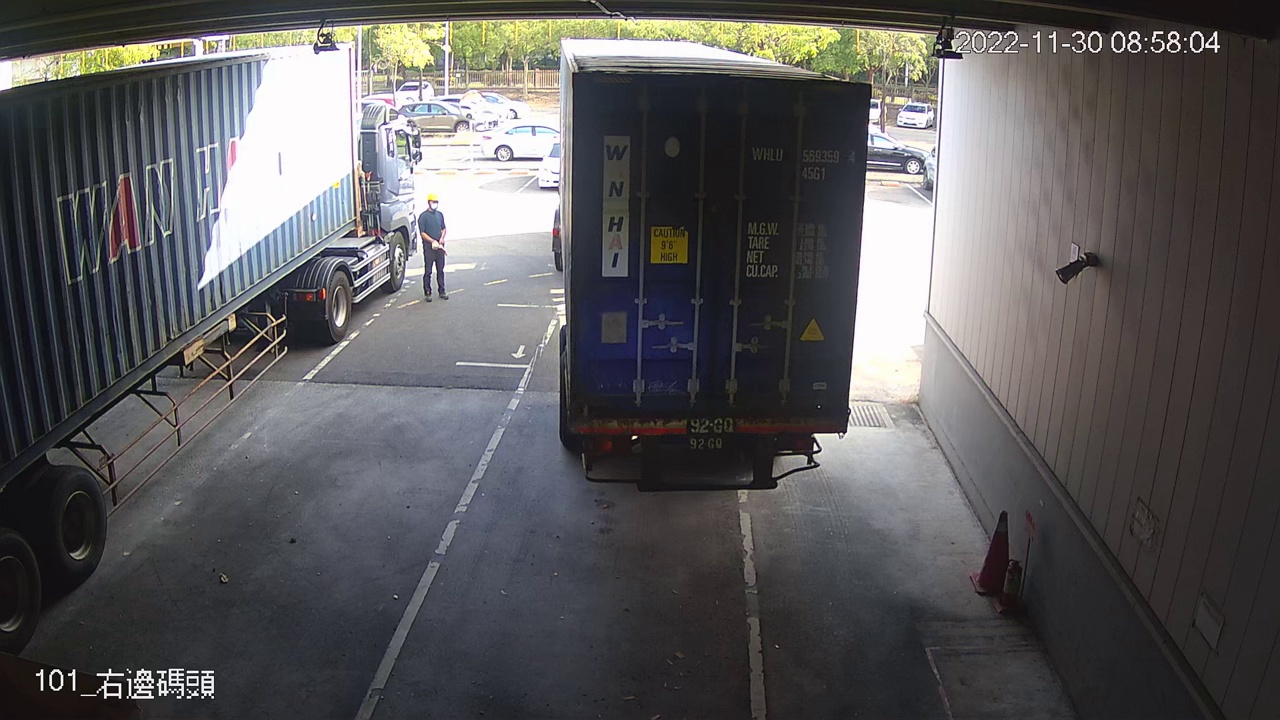container: (748, 138, 860, 188)
